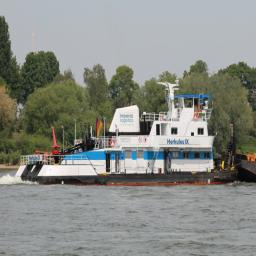tugboat: (15, 76, 244, 190)
